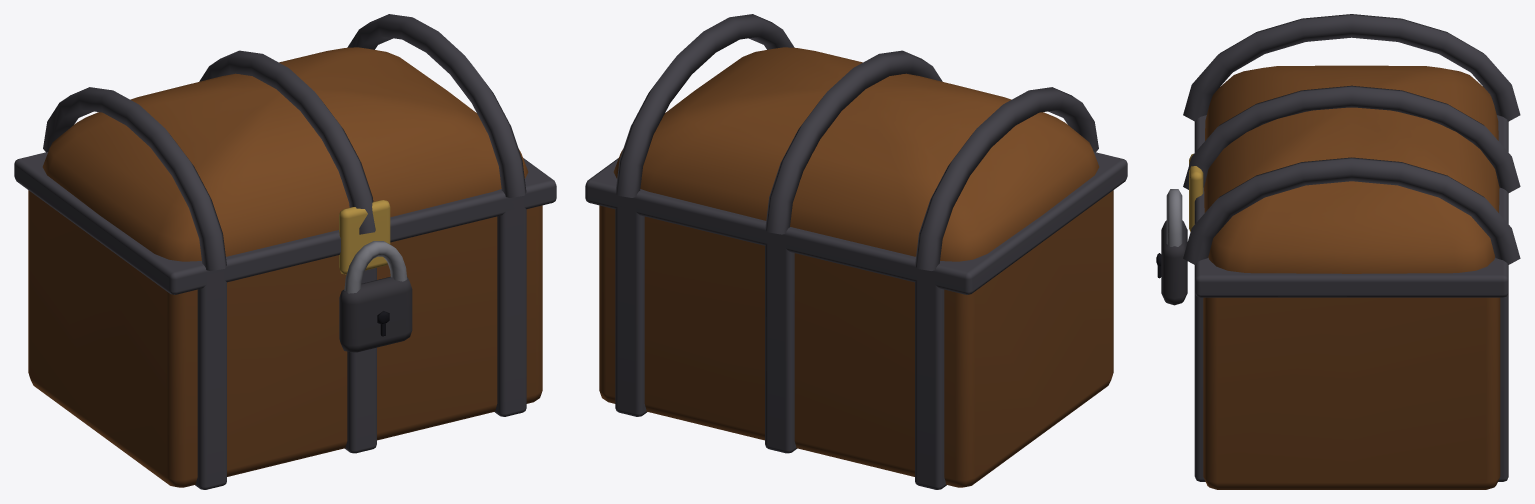
File: furn_bank_chest.glb
3 renders of one model, left to right at view 1: azimuth 30°, elevation 25°; view 2: azimuth 150°, elevation 25°; view 3: azimuth 270°, elevation 25°, orthographic.
Parts seen in each view (by area): view 1: furn_bank_chest_main; view 2: furn_bank_chest_main; view 3: furn_bank_chest_main.
Boxes of the visible parts, x1,y1,x2,y2 form: furn_bank_chest_main: (14,14,556,489); furn_bank_chest_main: (585,14,1127,489); furn_bank_chest_main: (1156,14,1520,489).
Size of the model in its own units: 0.62 by 0.4991 by 0.5149.
